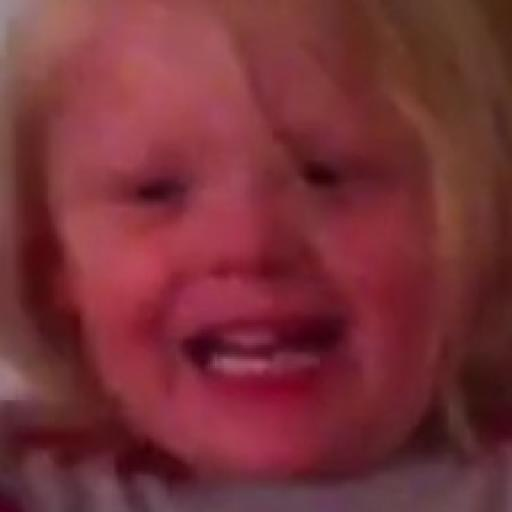Autism: (54, 28, 435, 488)
